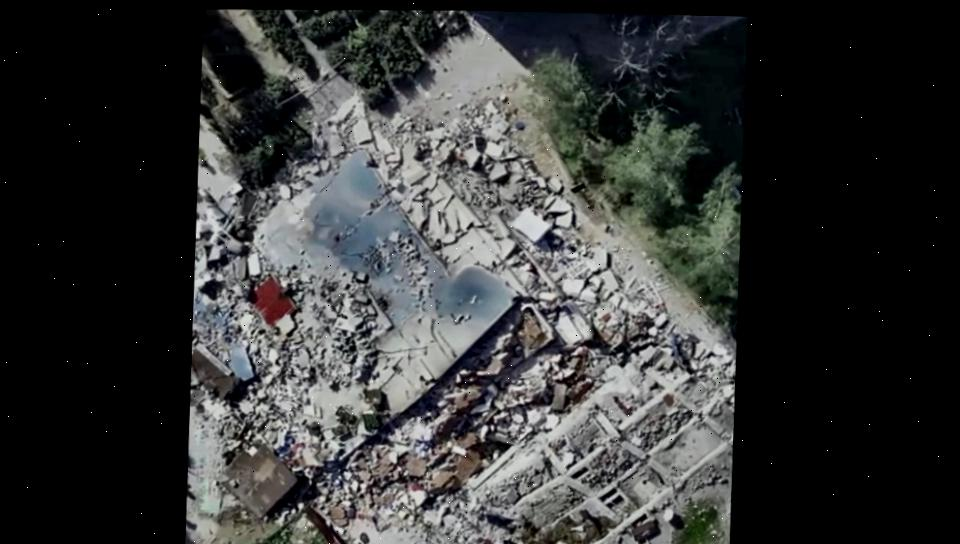kapali: (193, 176, 485, 544)
